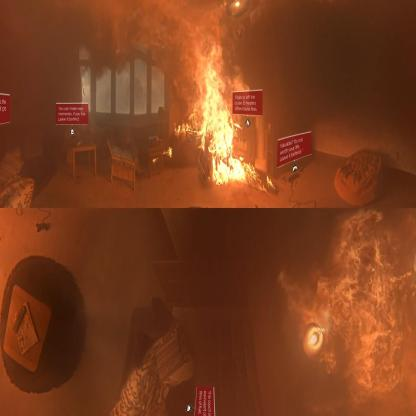fire: (179, 40, 270, 188)
